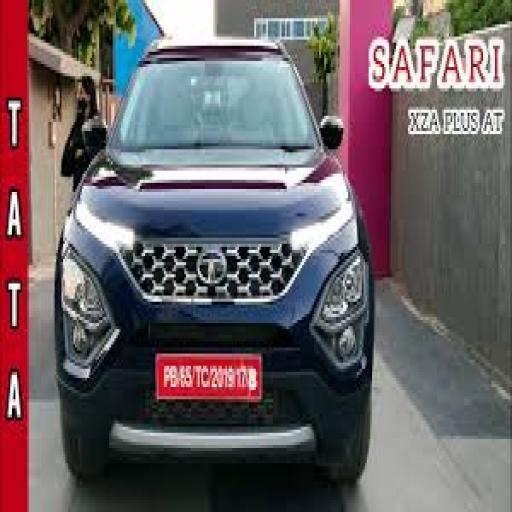car: (48, 30, 390, 488)
